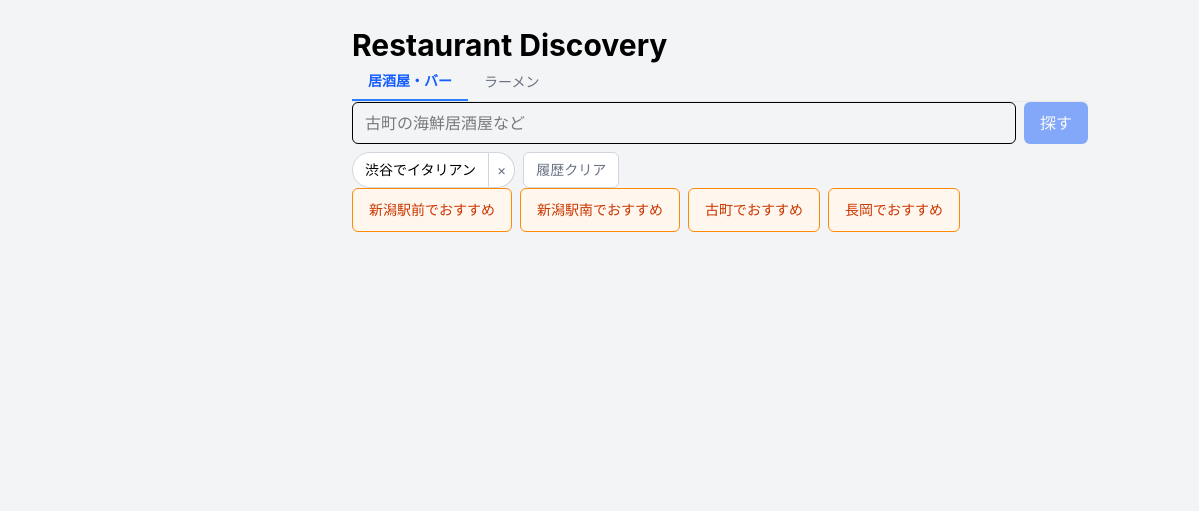
Test: App - refine-recommendation統合 › 再レコメンドエラー時に既存の推薦結果が維持される（Req 7.3）
Type "渋谷でイタリアン" into the field at (684, 123), box [352,102,1016,144]
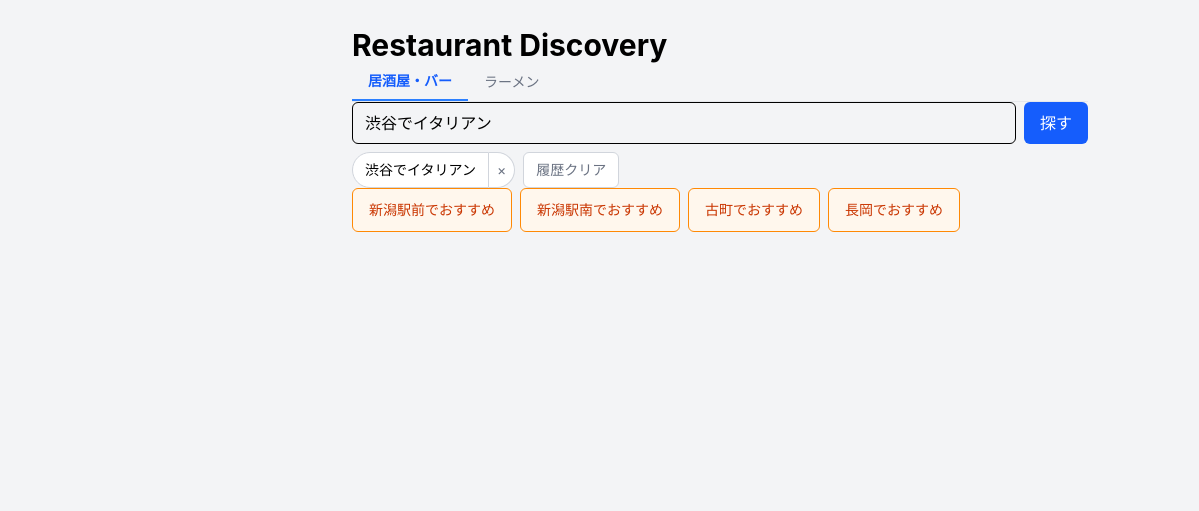
Submit the form, box [352,102,1088,144]
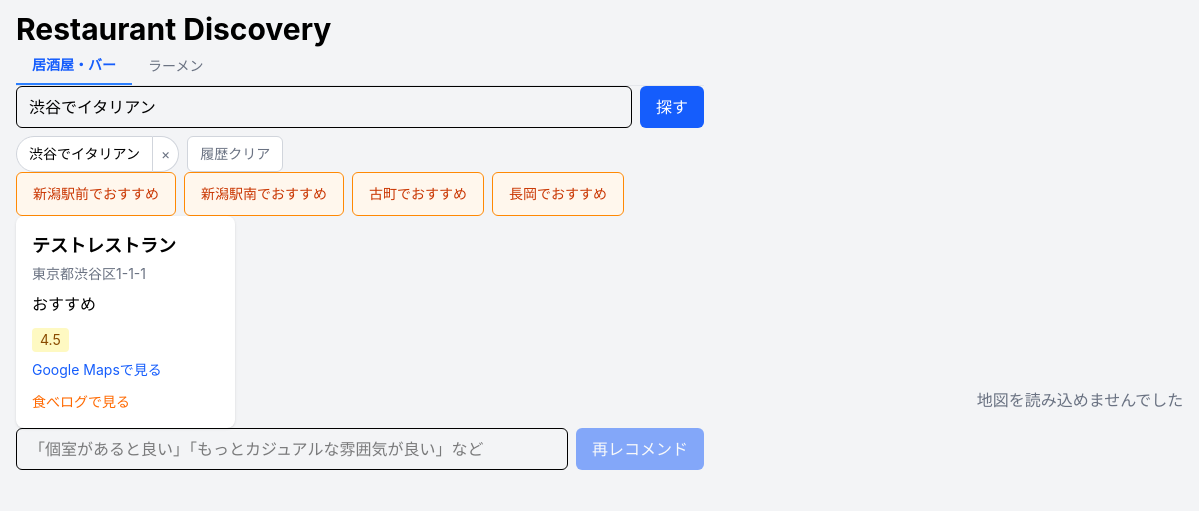
Expected: the heading "テストレストラン" is shown, [32,235,176,256]
Type "個室があると良い" into the field named "フィードバック入力" at (292, 449), box [16,428,568,470]
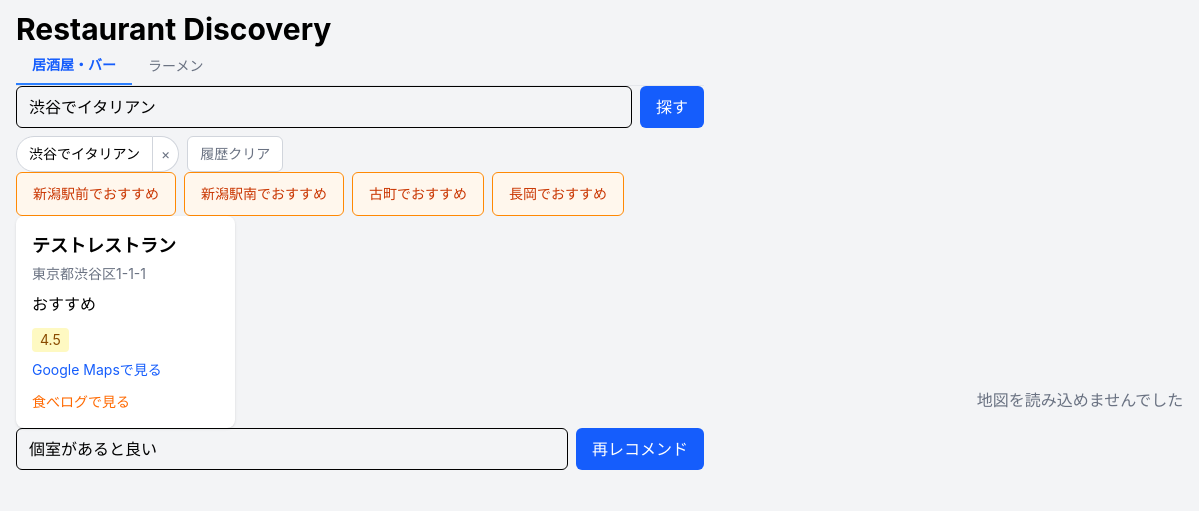
Click the button "再レコメンド" at (640, 449), box [576,428,704,470]
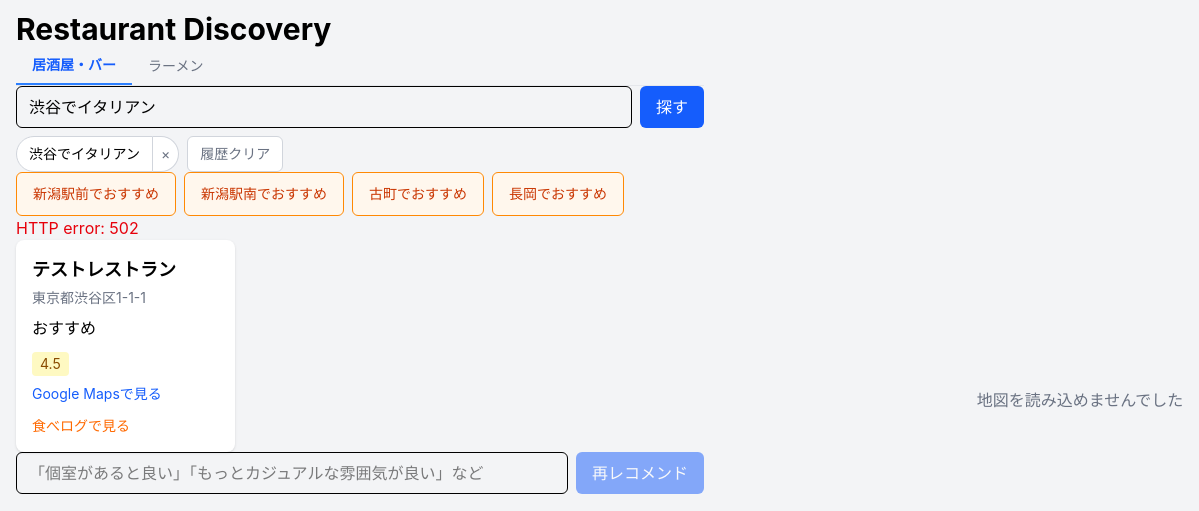
Expected: the heading "テストレストラン" is shown, [32,259,176,280]
Expected: the text "HTTP error: 502" is shown, [16,218,139,238]
